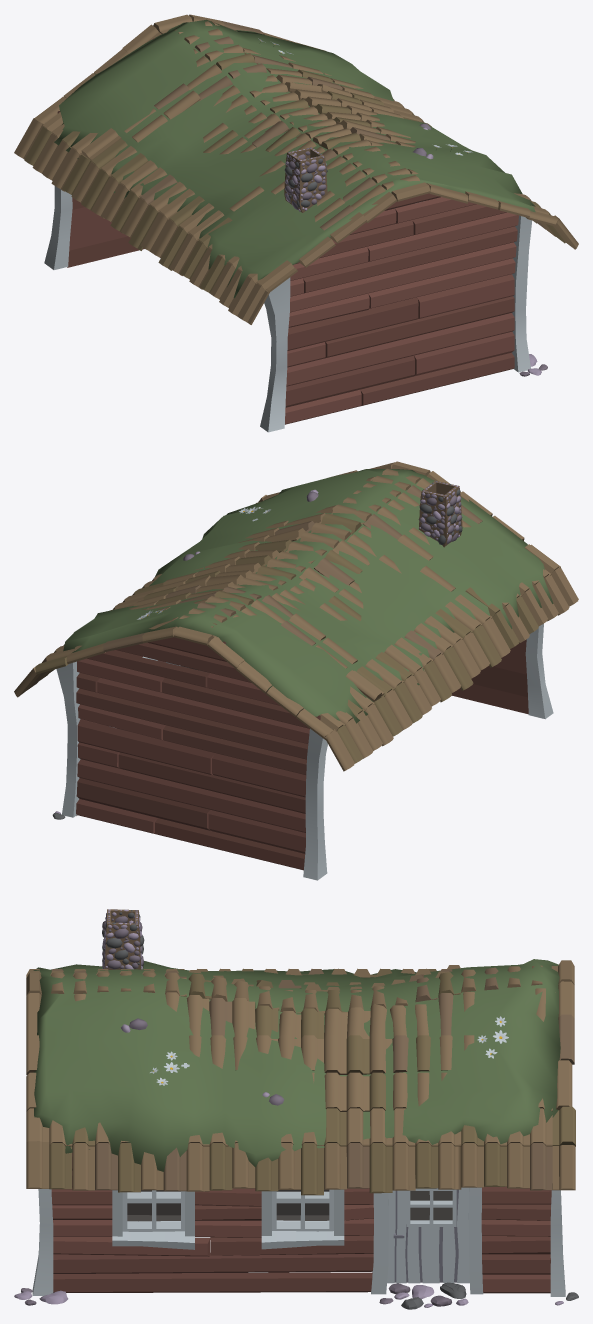
File: P_Cabin_01_LD.fbx
The picture shows the model from 3 angles, top to bottom: view 1: azimuth 30°, elevation 25°; view 2: azimuth 150°, elevation 25°; view 3: azimuth 270°, elevation 25°; orthographic projection. The views are drawn at different scales.
Visible parts, largest first — view 1: P_Cabin_01; view 2: P_Cabin_01; view 3: P_Cabin_01.
Part boxes in pixels (box(x1,y1,x2,y2)): P_Cabin_01: box(14, 14, 578, 432); P_Cabin_01: box(14, 461, 578, 880); P_Cabin_01: box(14, 909, 578, 1309).
Bounding box in the file's own units: 882 × 589 × 1089.
Materials: 1 (1 with a texture image).
